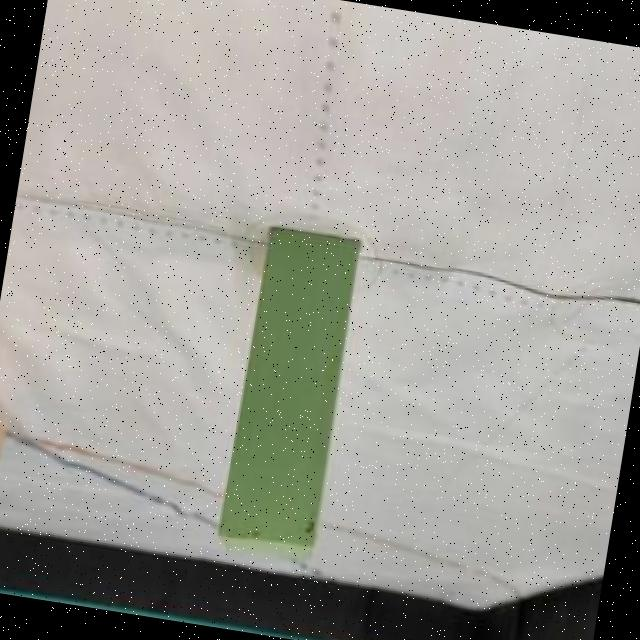greenbox: (215, 222, 364, 563)
